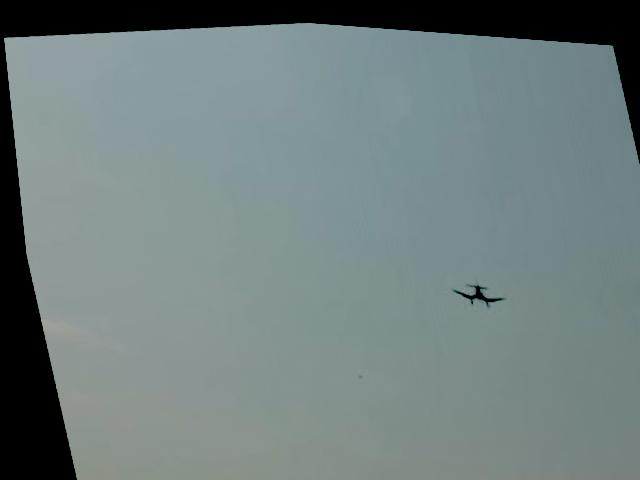uav: (440, 261, 508, 311)
